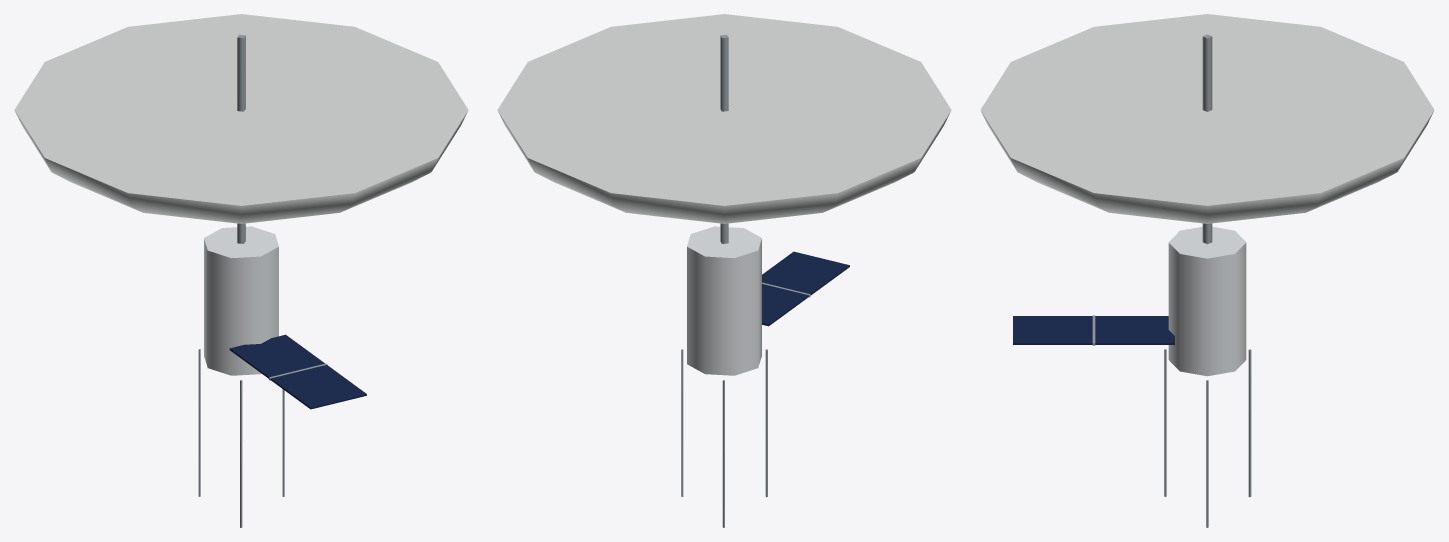
File: space_orbital_radar_t2.glb
The picture shows the model from 3 angles, left to right: view 1: azimuth 30°, elevation 25°; view 2: azimuth 150°, elevation 25°; view 3: azimuth 270°, elevation 25°; orthographic projection.
Parts seen in each view (by area): view 1: dish, body, solar_0; view 2: dish, body, solar_0; view 3: dish, body, solar_0.
Part boxes in pixels (x1=…): dish: x1=14, y1=14, x2=468, y2=243; body: x1=198, y1=226, x2=284, y2=527; solar_0: x1=229, y1=334, x2=366, y2=409; dish: x1=497, y1=14, x2=951, y2=243; body: x1=681, y1=226, x2=767, y2=527; solar_0: x1=762, y1=251, x2=849, y2=326; dish: x1=980, y1=14, x2=1434, y2=244; body: x1=1164, y1=226, x2=1251, y2=527; solar_0: x1=1013, y1=315, x2=1174, y2=345.
Size of what is drawn, in the model's own units: 14 by 16 by 14.
